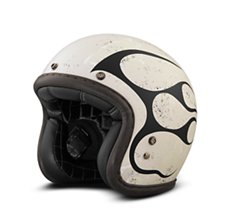with_helmet: (30, 30, 202, 201)
